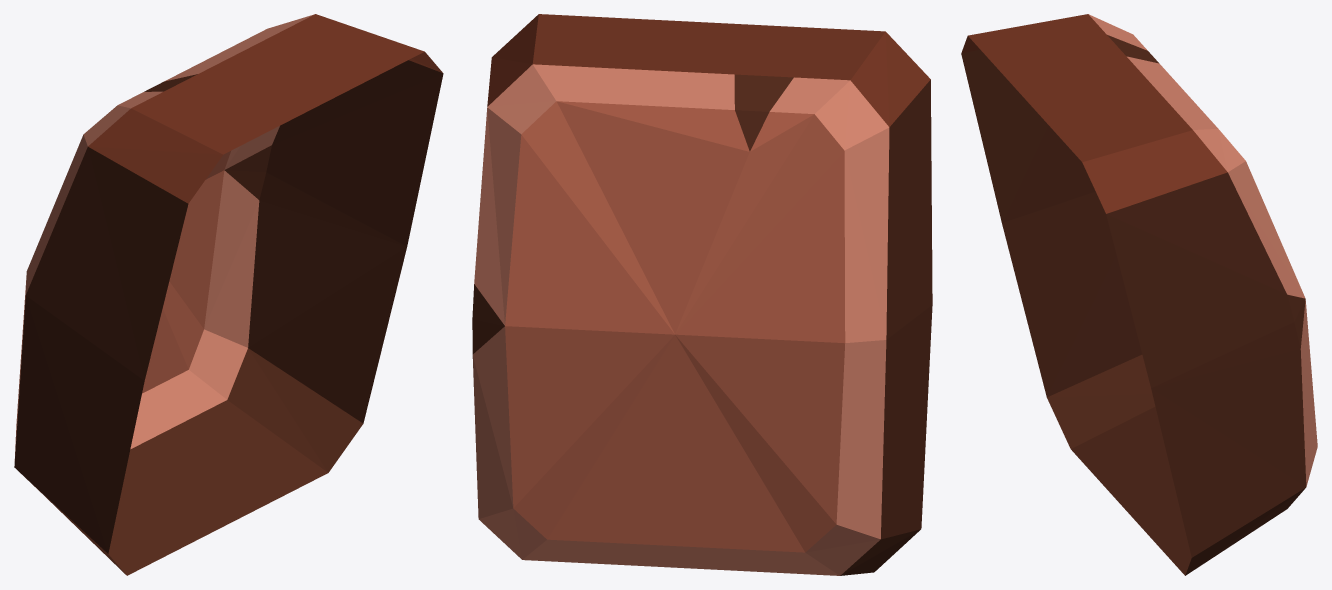
The model's file is BetIncreaseButton.fbx.
3 renders of one model, left to right at view 1: azimuth 30°, elevation 25°; view 2: azimuth 150°, elevation 25°; view 3: azimuth 270°, elevation 25°, orthographic. The views are drawn at different scales.
Parts seen in each view (by area): view 1: BetButton02MDL; view 2: BetButton02MDL; view 3: BetButton02MDL.
Boxes of the visible parts, x1,y1,x2,y2 form: BetButton02MDL: (14, 14, 443, 575); BetButton02MDL: (472, 14, 932, 575); BetButton02MDL: (961, 14, 1317, 575).
Size of the model in its own units: 1.45 by 1.63 by 1.18.
